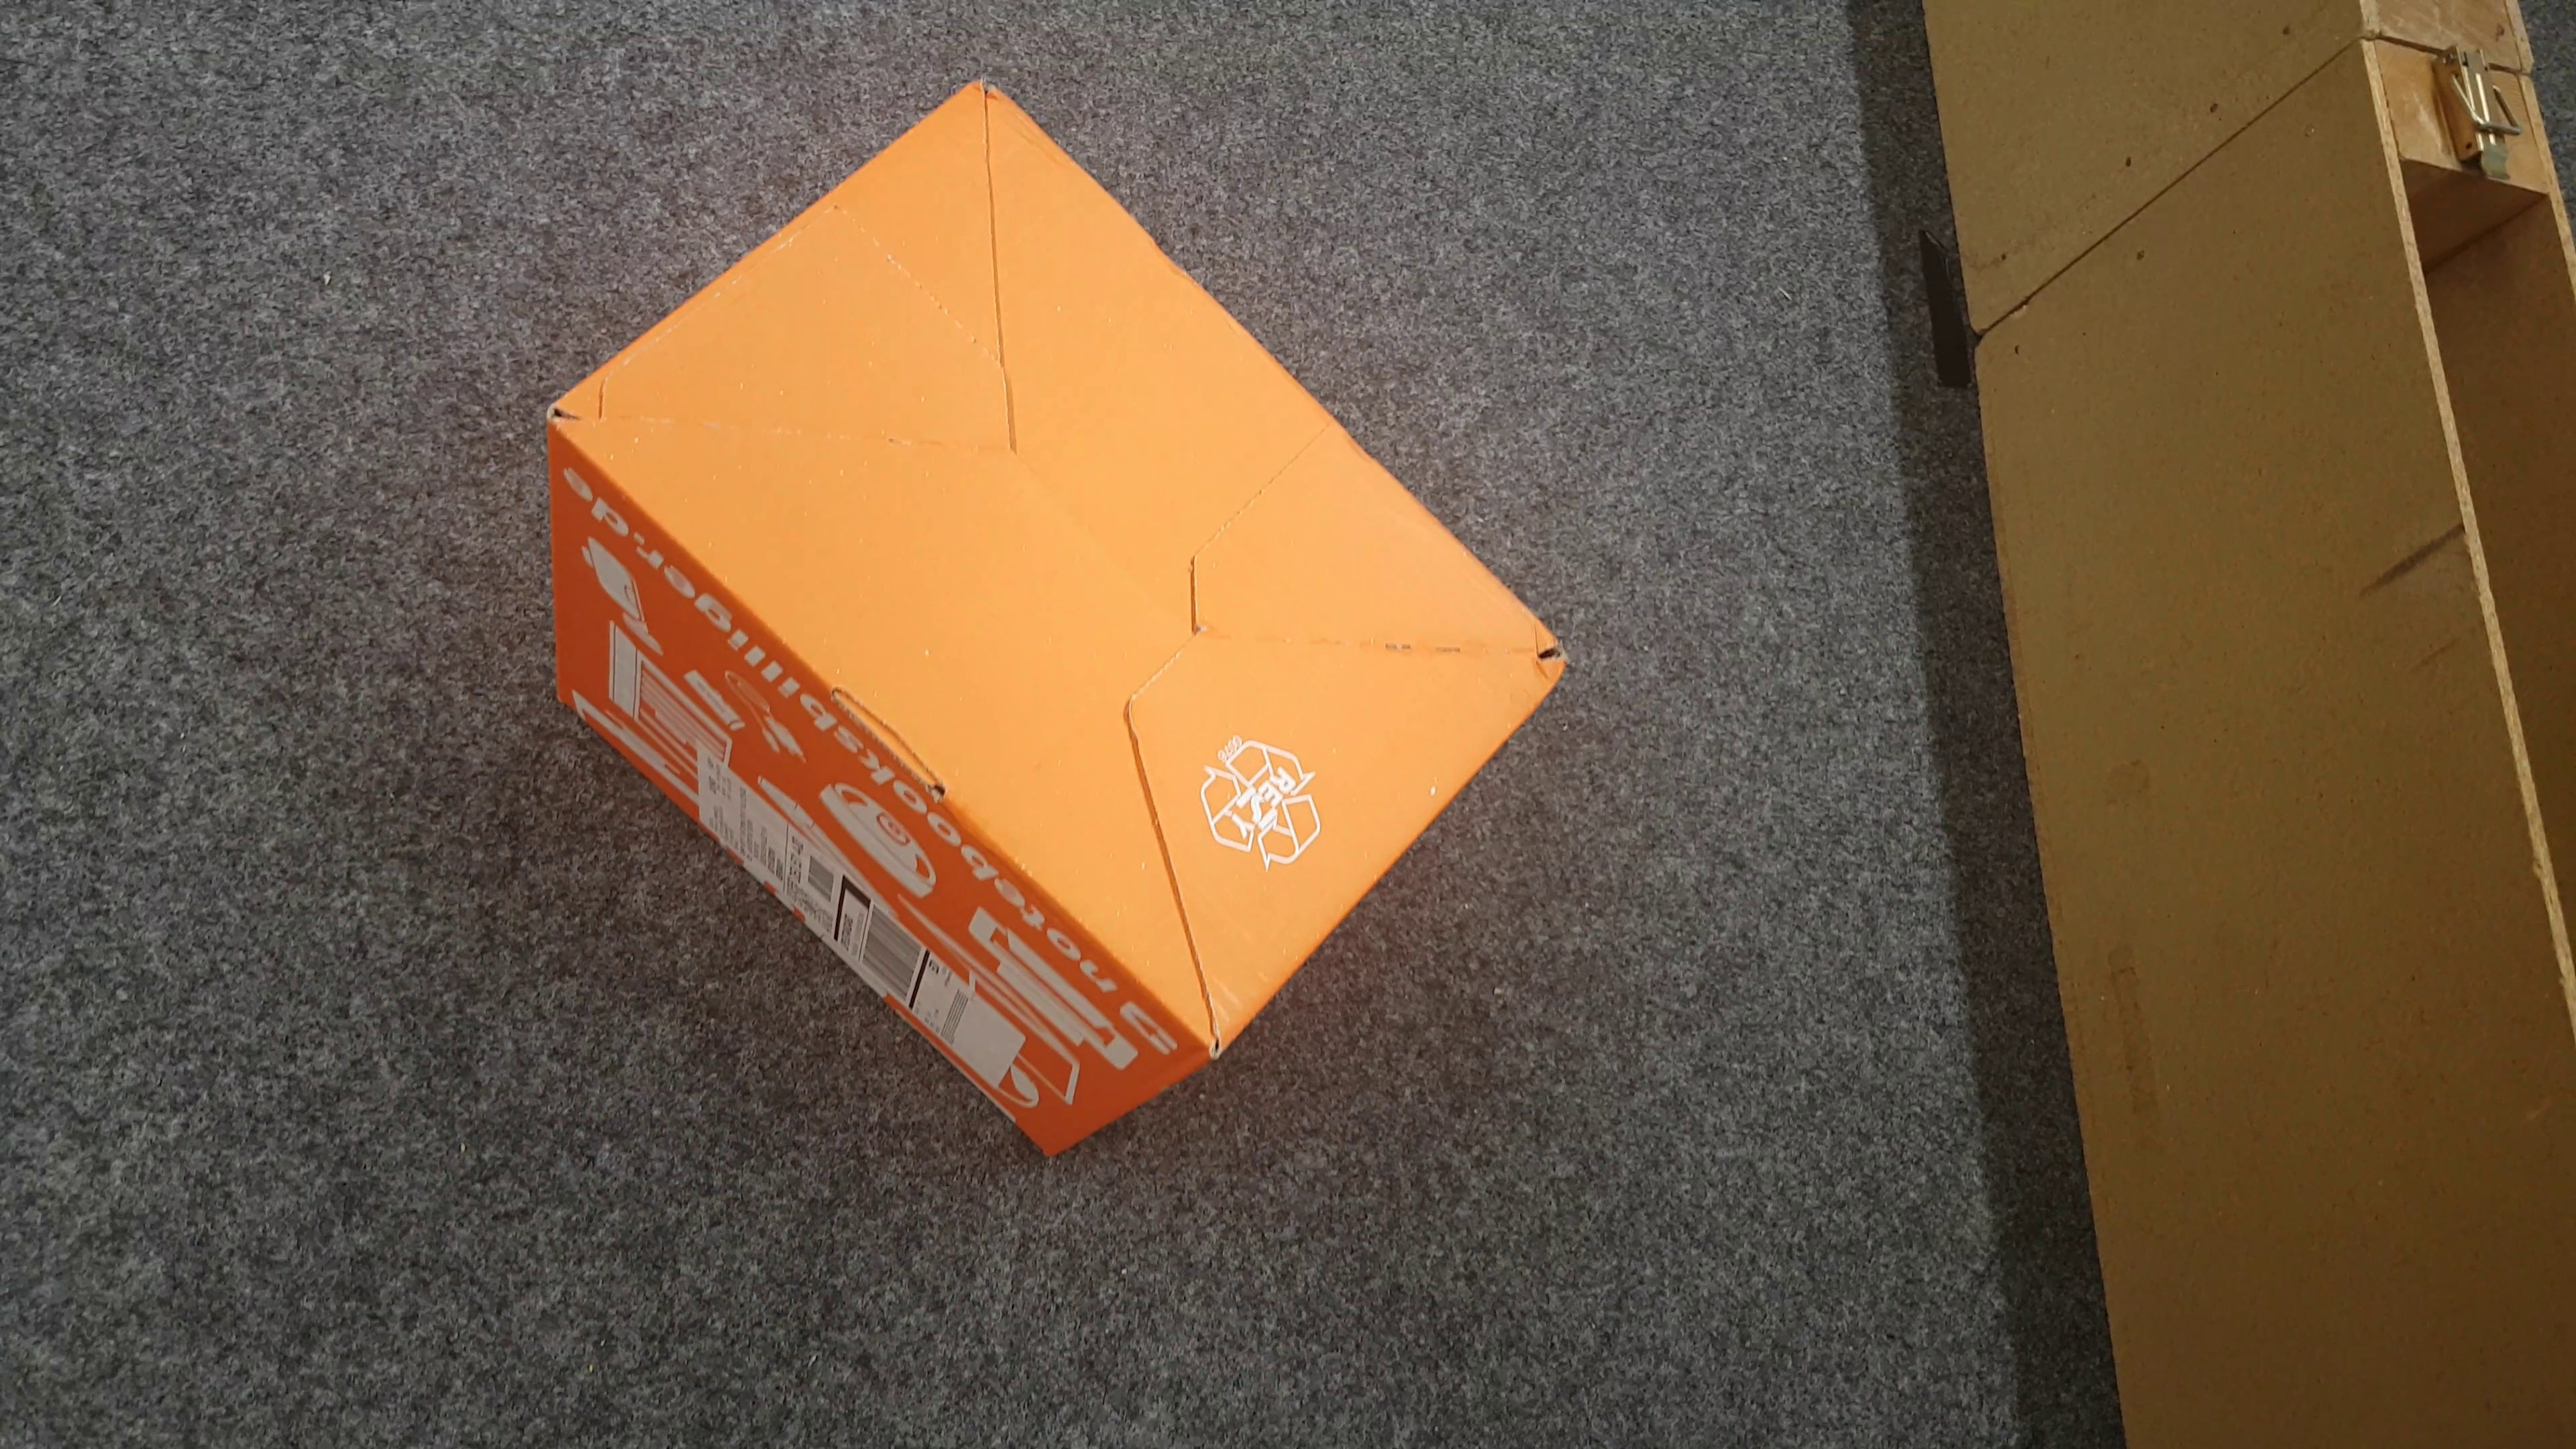push: (550, 85, 1576, 1143)
